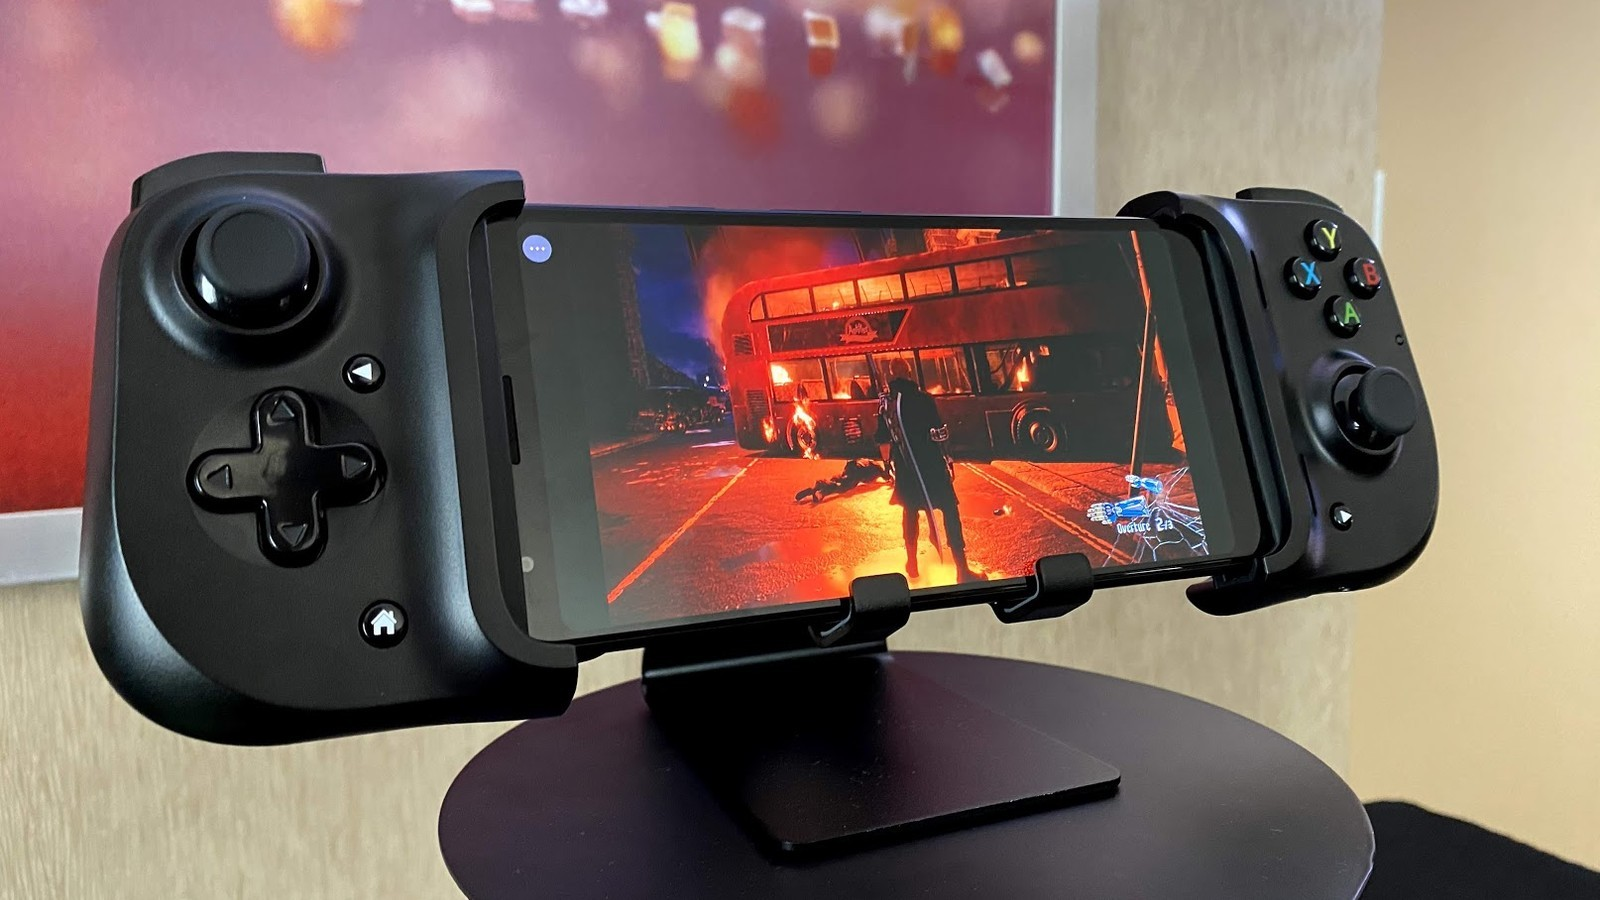controller: (76, 151, 1444, 747)
